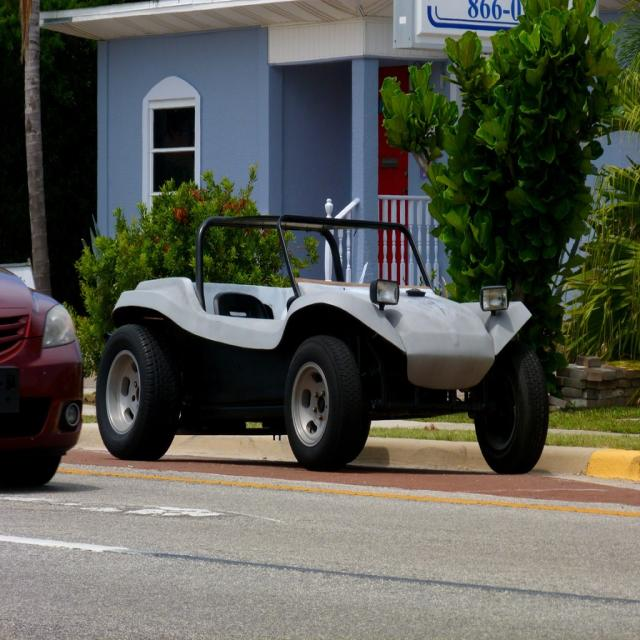car: (94, 213, 548, 469)
